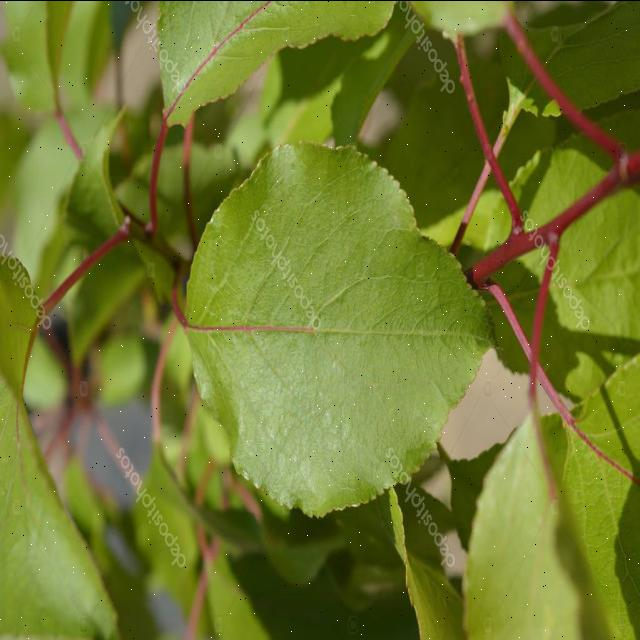Yaprak: (186, 143, 490, 515), (159, 1, 395, 125)
